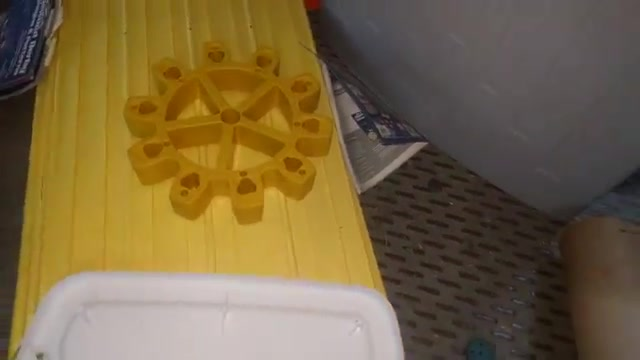gear: (121, 39, 337, 226)
